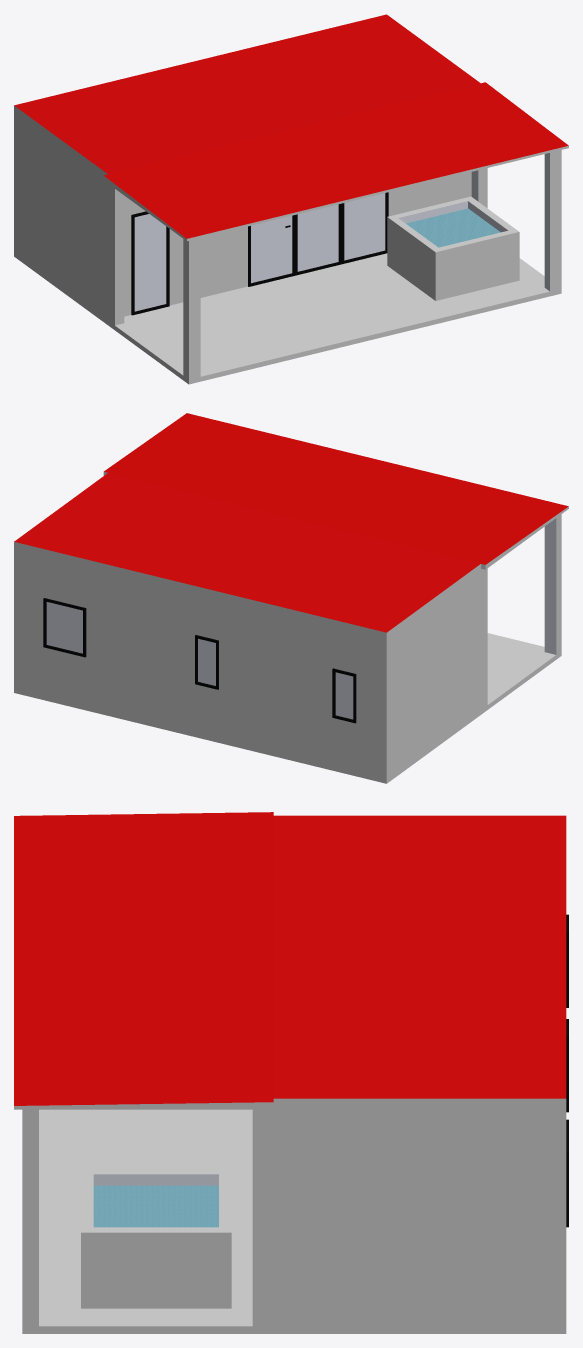
File: mobile_home_vila_polidor.glb
3 renders of one model, top to bottom at view 1: azimuth 30°, elevation 25°; view 2: azimuth 150°, elevation 25°; view 3: azimuth 270°, elevation 25°, orthographic. The views are drawn at different scales.
Parts seen in each view (by area): view 1: 3DGeom-98, 3DGeom-99, 3DGeom-100, 3DGeom-97, 3DGeom-101; view 2: 3DGeom-99, 3DGeom-98, 3DGeom-100, 3DGeom-97; view 3: 3DGeom-98, 3DGeom-99, 3DGeom-101, 3DGeom-100, 3DGeom-97.
Part boxes in pixels (x1=…): 3DGeom-98: x1=14, y1=14, x2=568, y2=238; 3DGeom-99: x1=14, y1=105, x2=568, y2=384; 3DGeom-100: x1=134, y1=153, x2=549, y2=311; 3DGeom-97: x1=131, y1=192, x2=388, y2=315; 3DGeom-101: x1=406, y1=208, x2=500, y2=247; 3DGeom-99: x1=14, y1=506, x2=568, y2=783; 3DGeom-98: x1=14, y1=413, x2=568, y2=632; 3DGeom-100: x1=46, y1=472, x2=556, y2=719; 3DGeom-97: x1=43, y1=598, x2=356, y2=723; 3DGeom-98: x1=14, y1=812, x2=566, y2=1105; 3DGeom-99: x1=14, y1=1098, x2=566, y2=1333; 3DGeom-101: x1=93, y1=1185, x2=218, y2=1227; 3DGeom-100: x1=93, y1=1174, x2=218, y2=1185; 3DGeom-97: x1=566, y1=914, x2=568, y2=1227.
Size of the model in its own units: 0.0082 by 0.0031 by 0.00663.
Materials: 5 (1 with a texture image).
